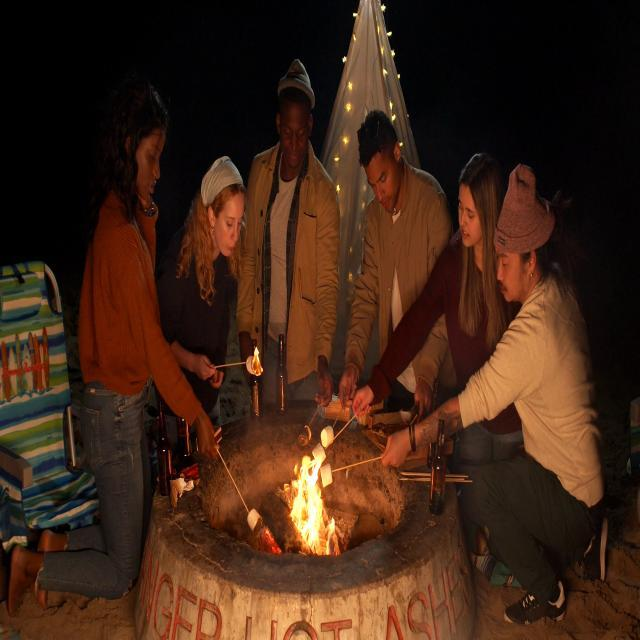Fire: (286, 428, 338, 554)
